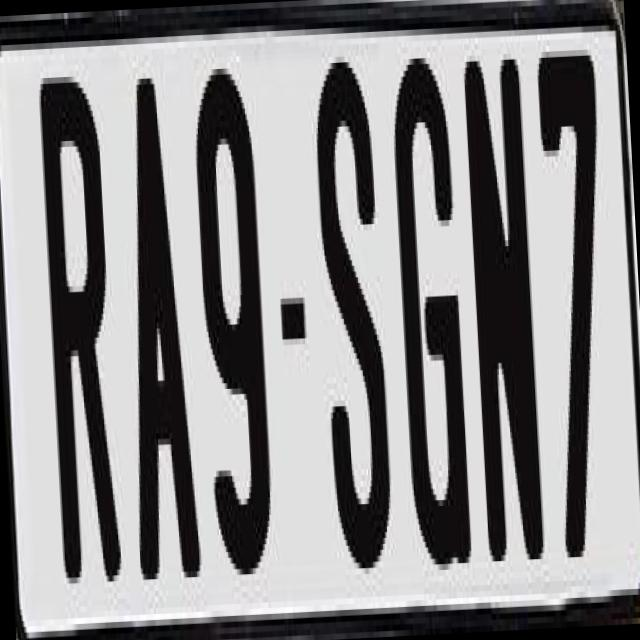7: (536, 44, 618, 552)
9: (190, 56, 278, 599)
A: (114, 77, 204, 598)
G: (384, 39, 476, 566)
N: (459, 41, 551, 574)
R: (35, 75, 124, 607)
S: (311, 49, 396, 582)
